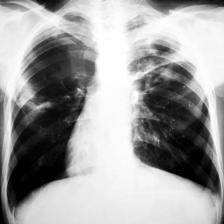tuberculosis: (0, 7, 224, 224)
